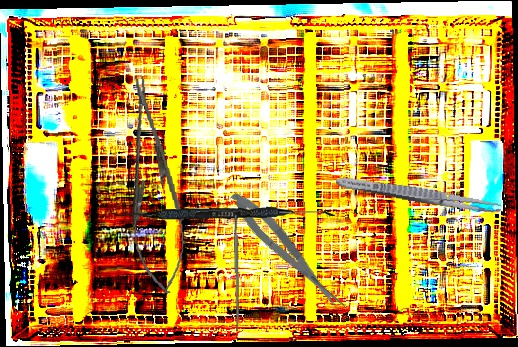Dressing Forceps: (334, 173, 503, 216)
Micro Scissor: (224, 184, 350, 320)
Needle Holder: (114, 73, 193, 297)
Scalpel Handle: (233, 214, 241, 331)
Spatula Surgical: (111, 203, 336, 224)
